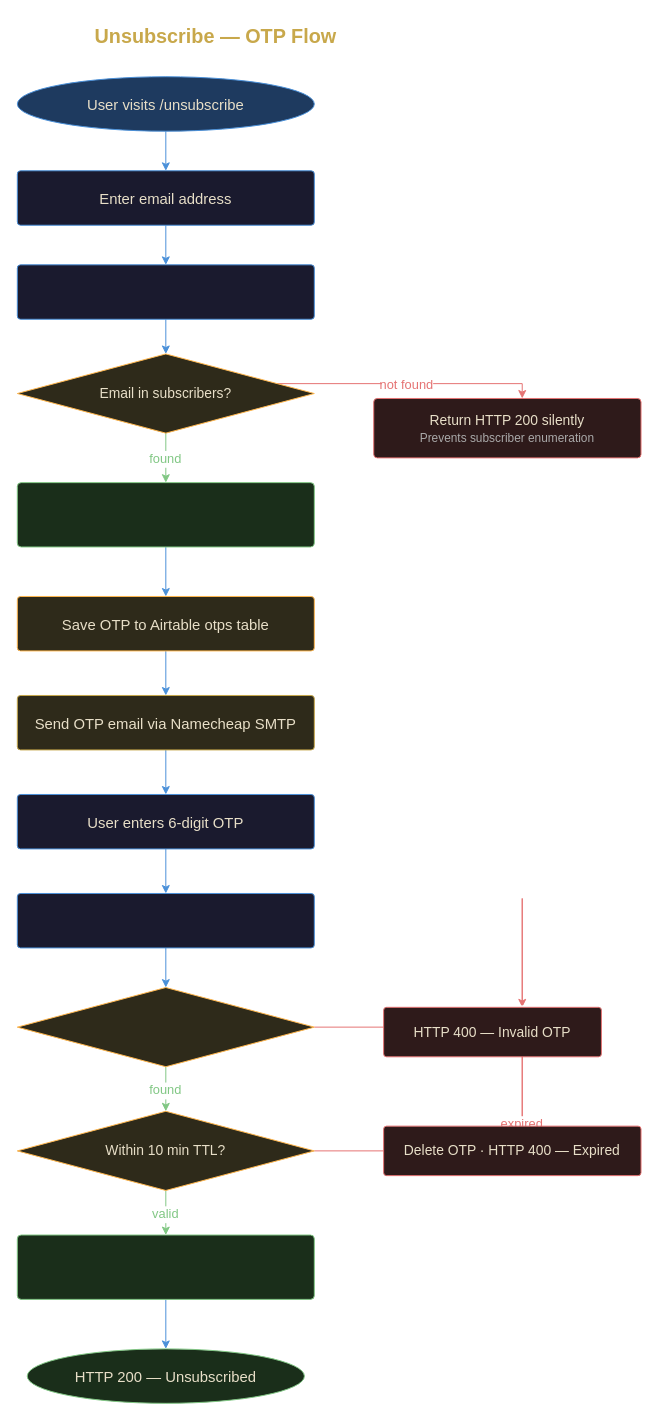
Some shapes in this 658 by 1421 pixel diagram are drawn without their labels. The box of each missing label's shape, as (x1, y1, x2, y2) in pixels:
Delete subscriber record Delete OTP record from Airtable: (16, 1234, 314, 1299)
Generate 6-digit OTP Delete any existing OTP for this email: (16, 482, 314, 547)
OTP match found?: (16, 987, 314, 1067)
POST /api/unsubscribe/confirm: (16, 892, 314, 948)
POST /api/unsubscribe/request: (16, 264, 314, 319)
